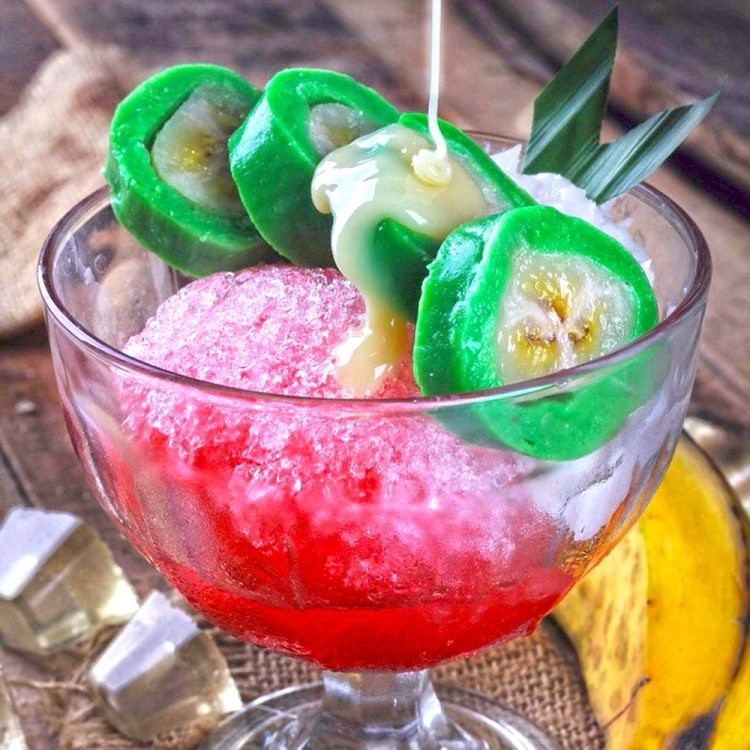pisang_ijo: (430, 191, 651, 457)
